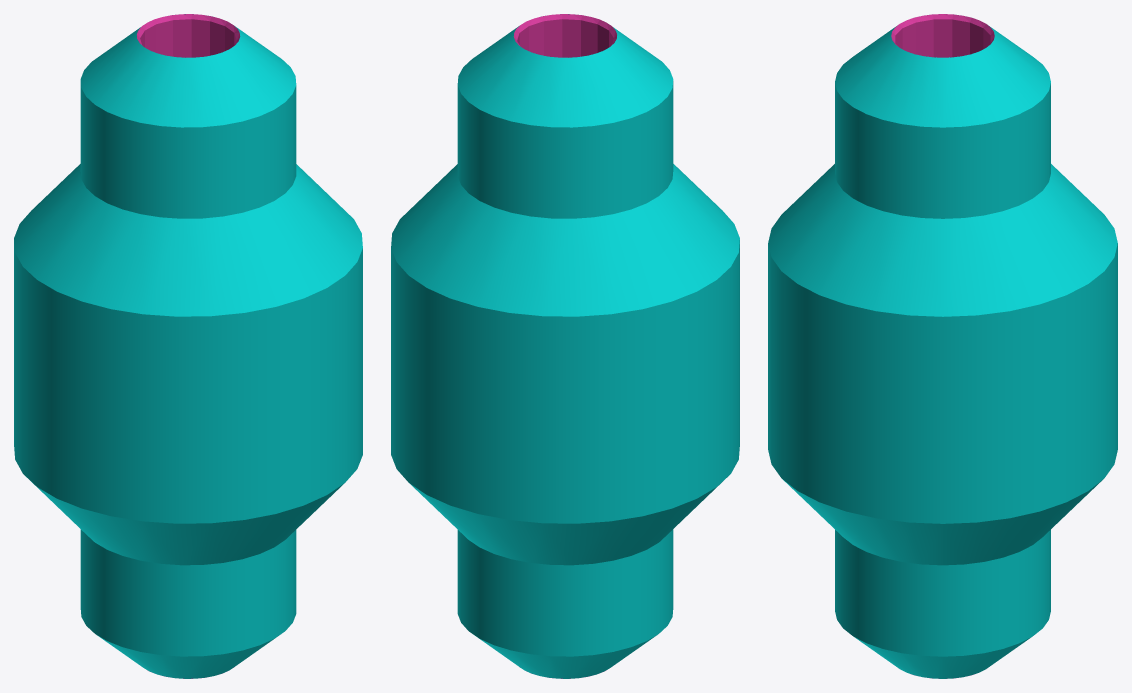
Rendered from station_hub_A_coll.dae.
3 renders of one model, left to right at view 1: azimuth 30°, elevation 25°; view 2: azimuth 150°, elevation 25°; view 3: azimuth 270°, elevation 25°, orthographic.
Parts seen in each view (by area): view 1: collision_ext_A, collision_wall_EXIT; view 2: collision_ext_A, collision_wall_EXIT; view 3: collision_ext_A, collision_wall_EXIT.
Part boxes in pixels (x1,y1,x2,y2): collision_ext_A: (14,14,362,678); collision_wall_EXIT: (137,14,240,57); collision_ext_A: (391,14,739,678); collision_wall_EXIT: (513,14,616,57); collision_ext_A: (768,25,1117,678); collision_wall_EXIT: (891,14,994,57).
Size of the model in its own units: 512 by 512 by 1004.
